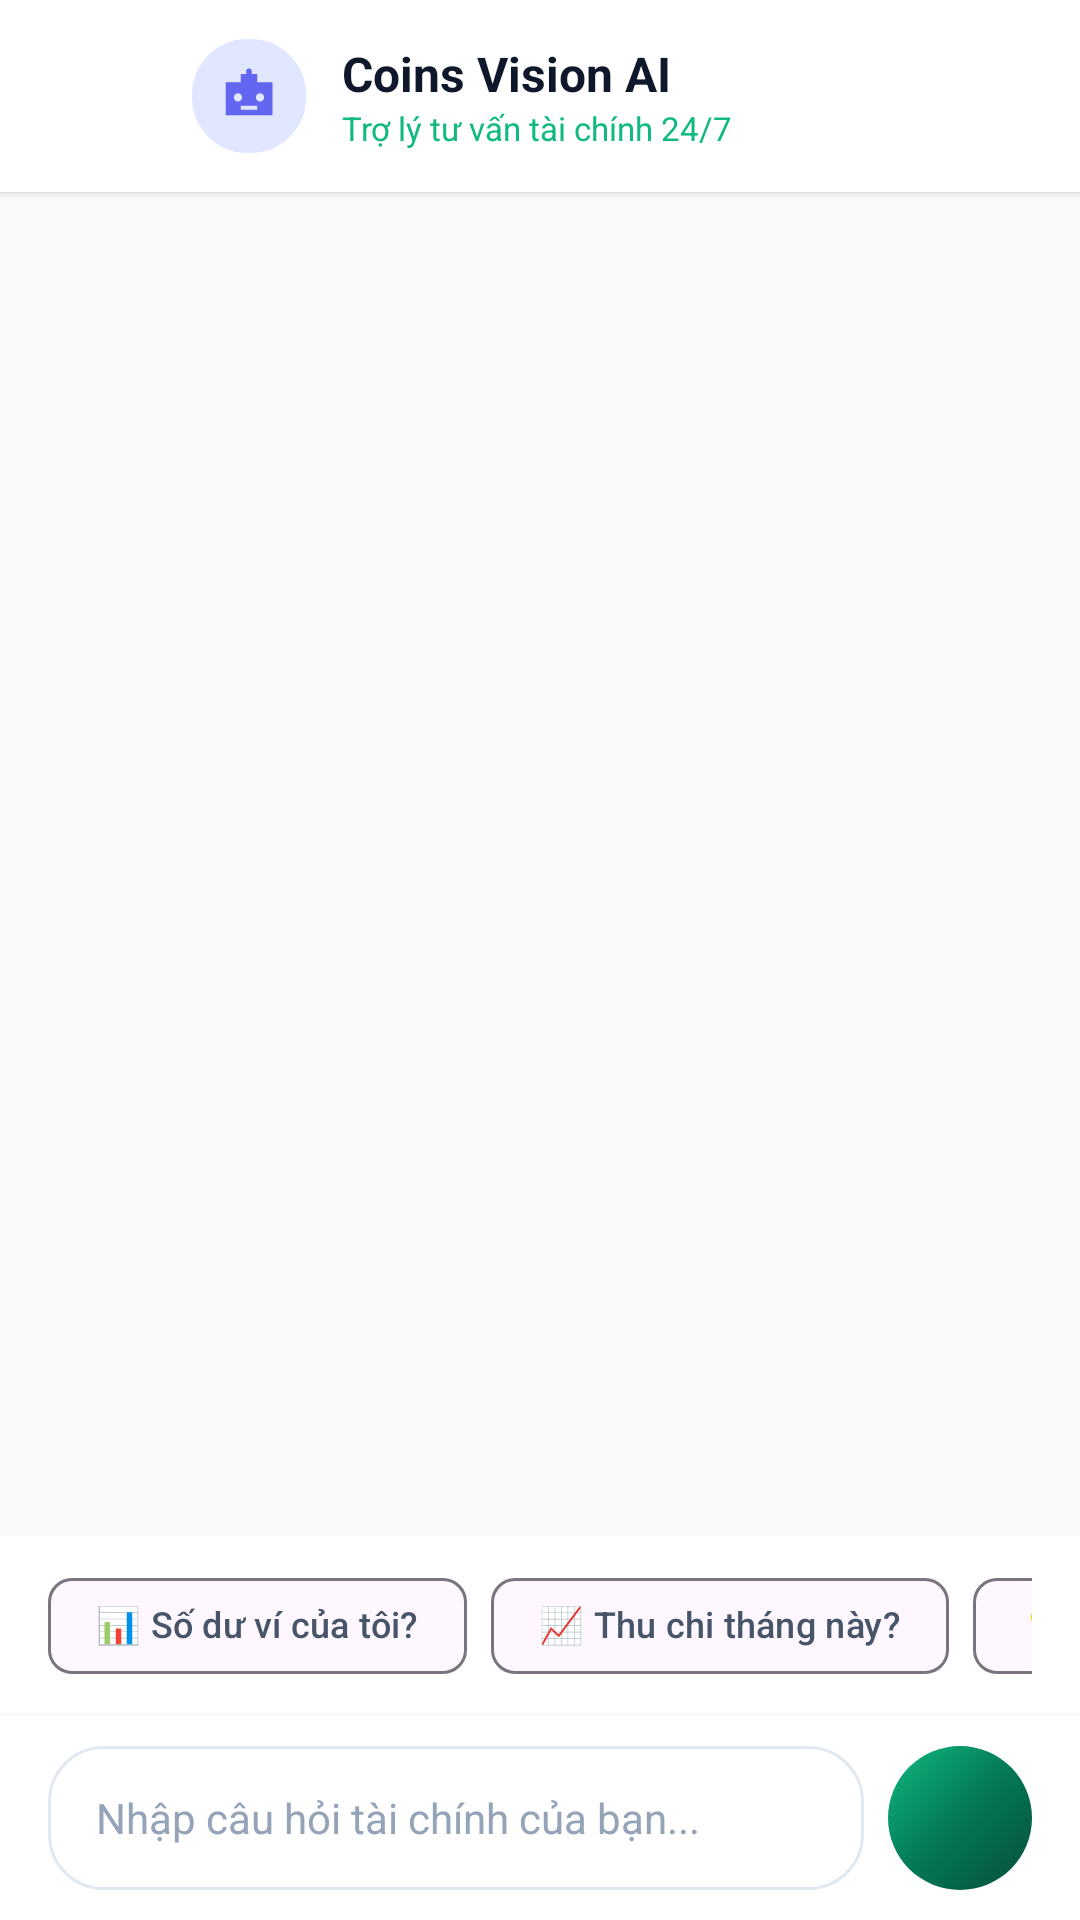

Locate icon controls on the screen. Image size 1080px×1920px, boxes as (x1, y1, x2, y2).
robot: (225, 68, 273, 116)
